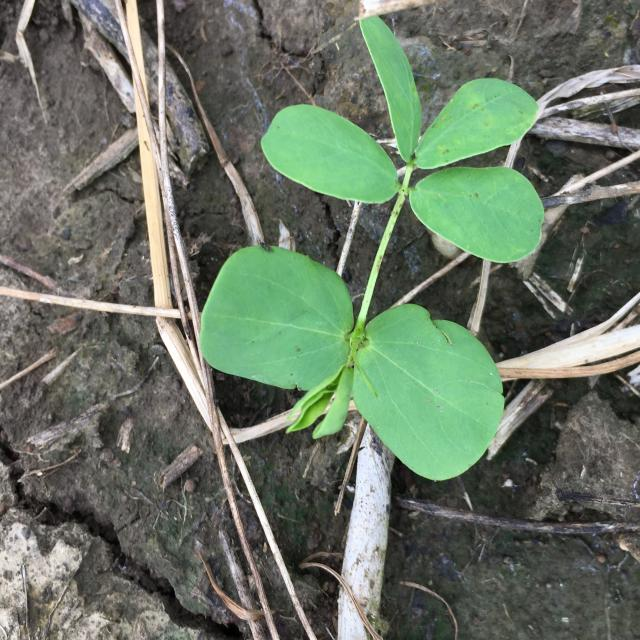Sicklepod: (199, 16, 545, 481)
